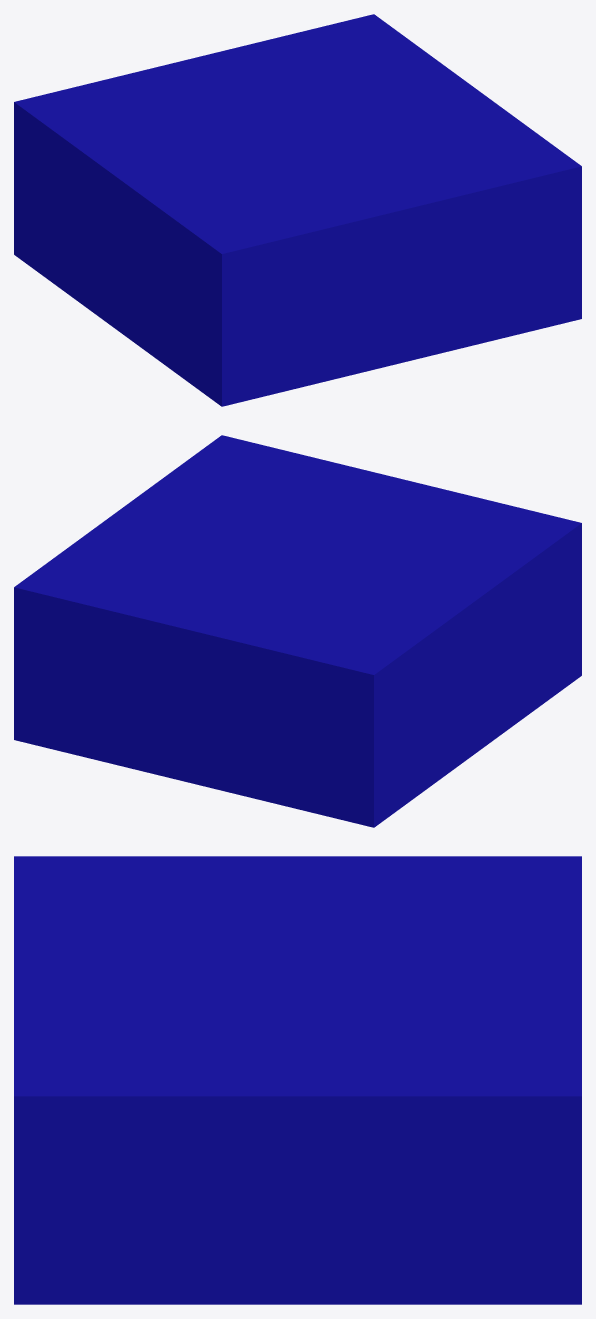
File: pong.glb
3 renders of one model, top to bottom at view 1: azimuth 30°, elevation 25°; view 2: azimuth 150°, elevation 25°; view 3: azimuth 270°, elevation 25°, orthographic. The views are drawn at different scales.
Visible parts, largest first — view 1: Cube.001; view 2: Cube.001; view 3: Cube.001.
Part boxes in pixels (x1,y1,x2,y2): Cube.001: (14,14,581,406); Cube.001: (14,435,581,827); Cube.001: (14,856,581,1304).
Bounding box in the file's own units: 260 × 105 × 260.
